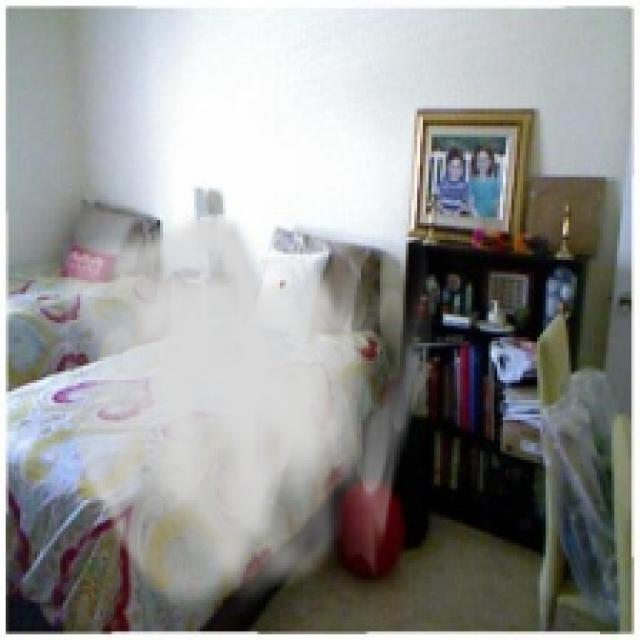smoke: (52, 209, 437, 620)
